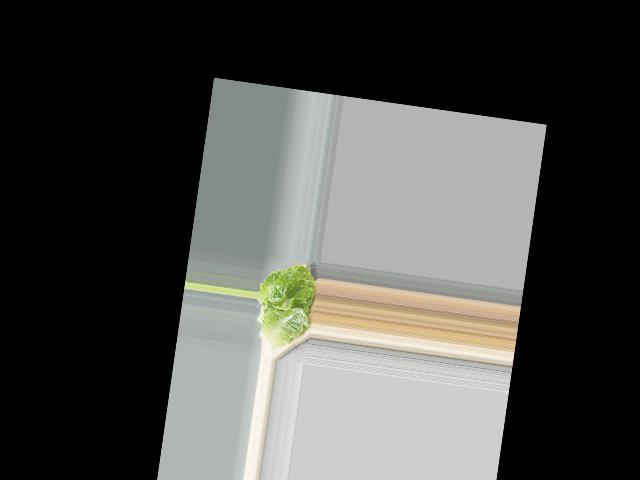lettuce: (251, 257, 320, 351)
